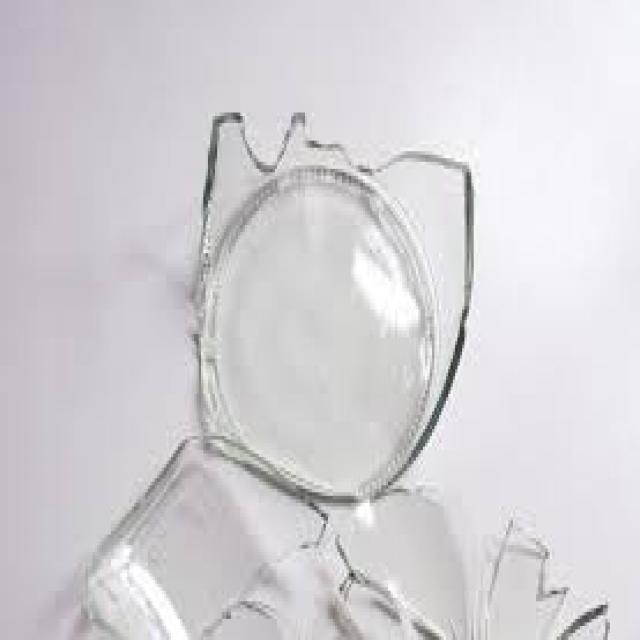Glass-Non-Biodegradable but Recyclable-: (197, 111, 473, 497)
